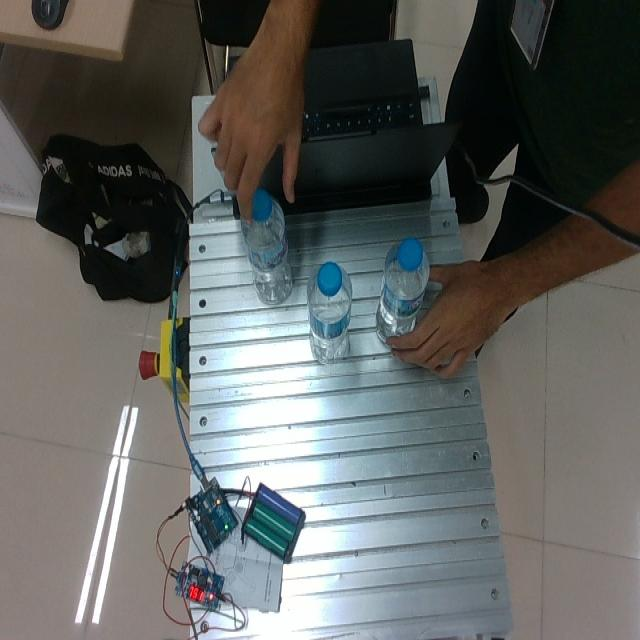lavie: (374, 236, 429, 345), (240, 190, 291, 306), (307, 261, 352, 364)
